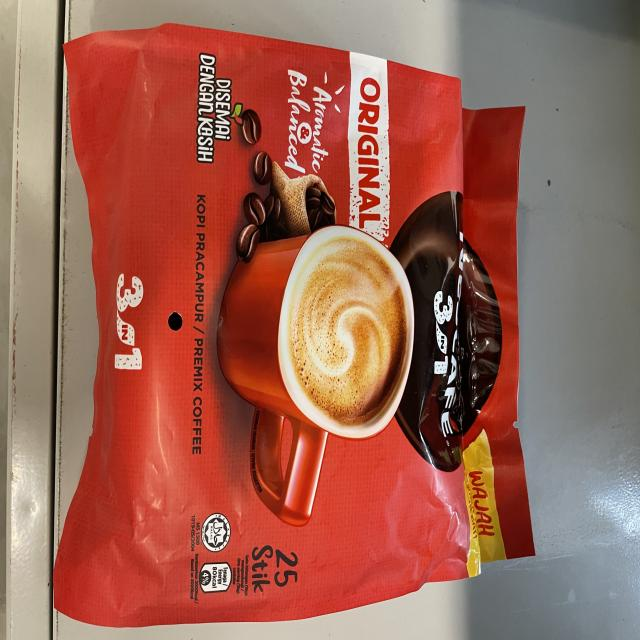object_name: (62, 34, 534, 626)
